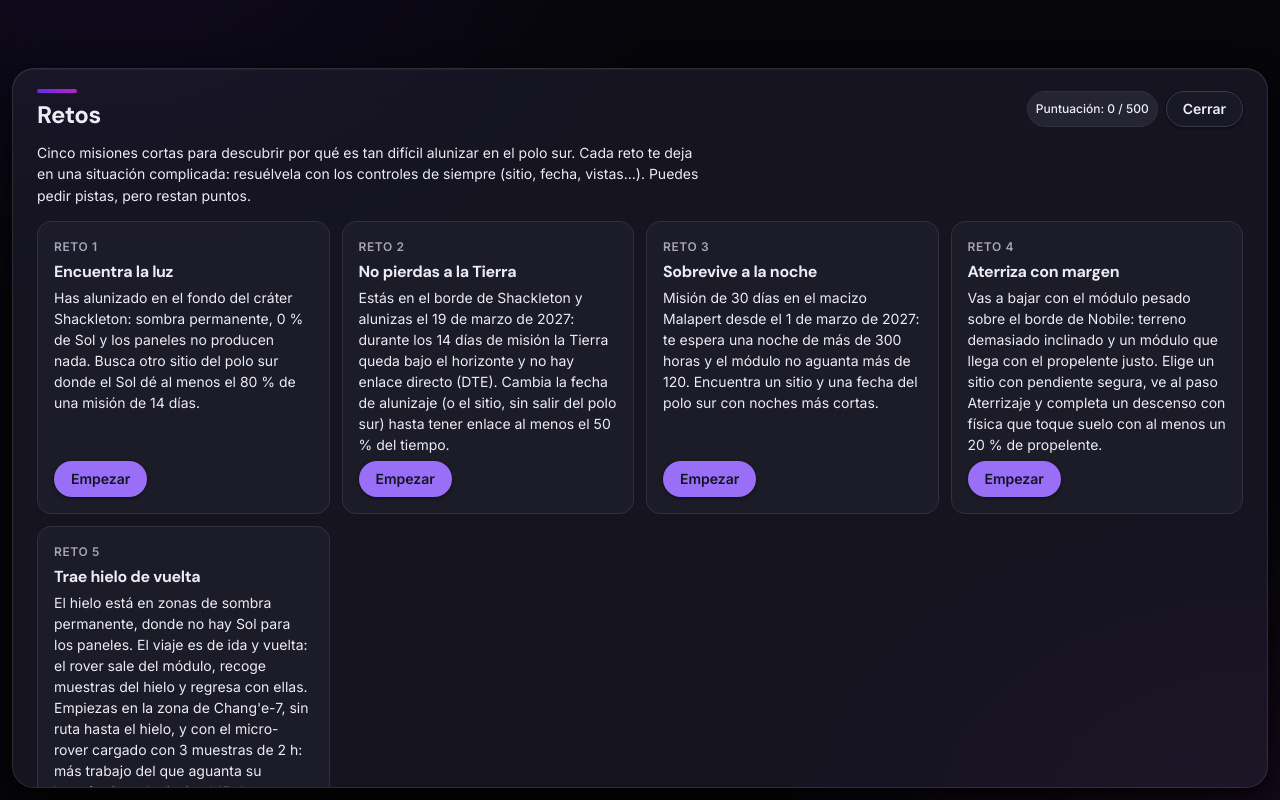
Test: playing a challenge › a solved run stays solved, and "next" starts the following challenge
Click the button "Empezar" below "Reto 4" at {"x": 1014, "y": 479}, box top-left (968, 461), bottom-right (1061, 497)
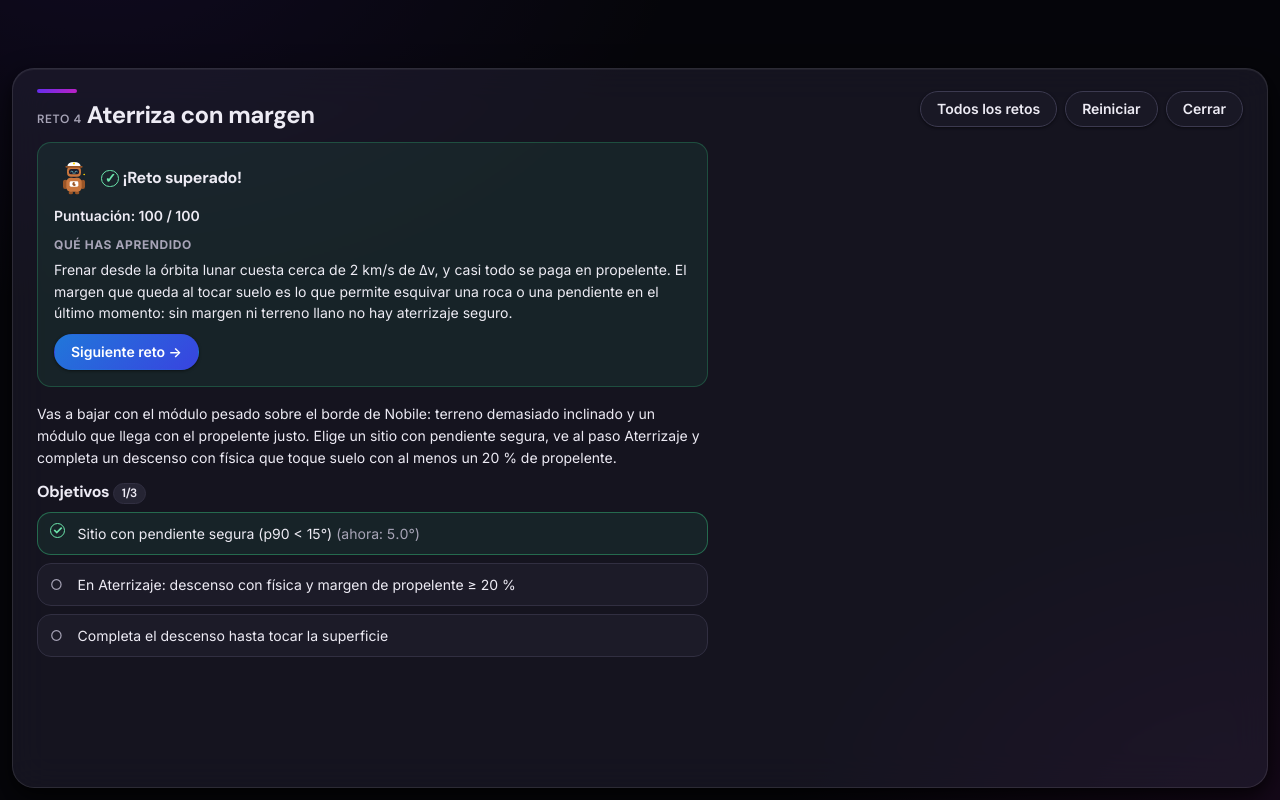
Check: the heading "✓ ¡Reto superado!" is shown, box top-left (54, 159), bottom-right (242, 199)
Click the button "Siguiente reto →" at {"x": 126, "y": 352}, box top-left (54, 334), bottom-right (199, 370)
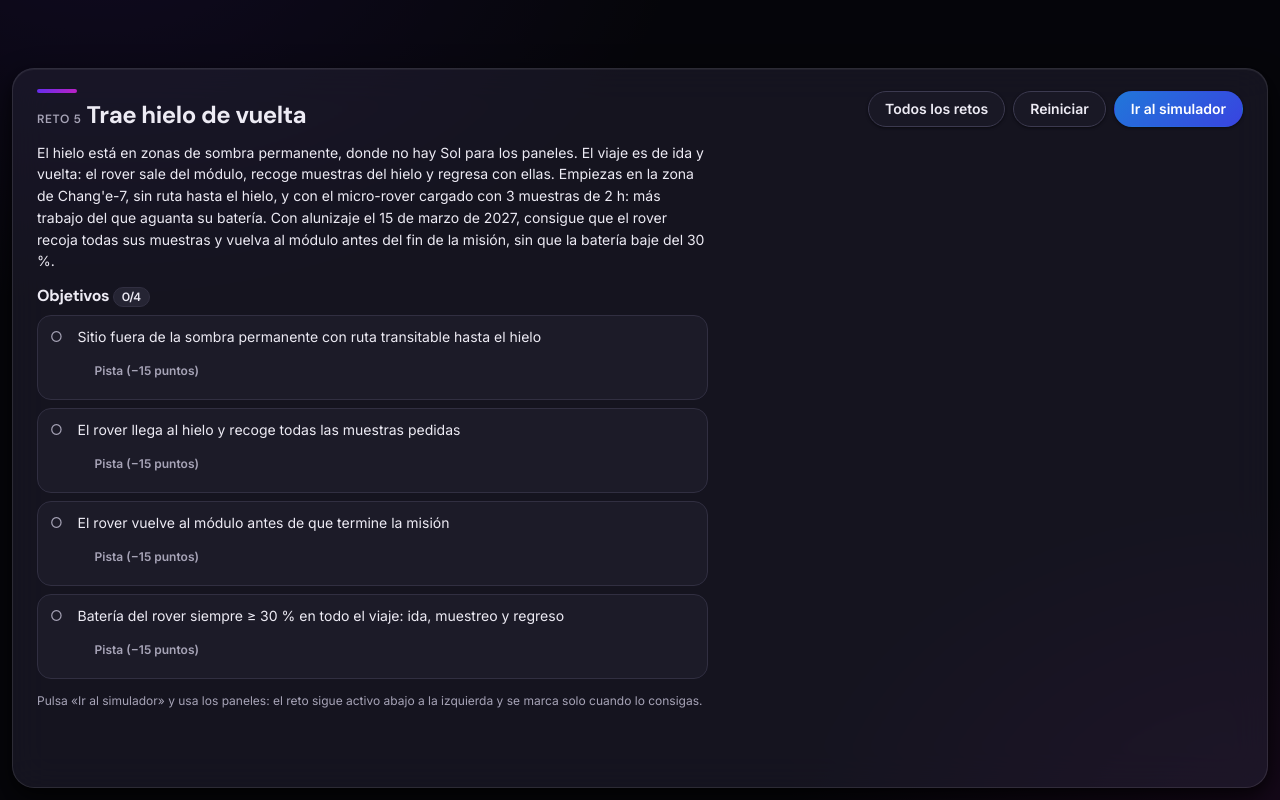
Check: the heading "Reto 5 Trae hielo de vuelta" is shown, box top-left (37, 89), bottom-right (306, 130)
Check: the heading "Reto superado" is gone
